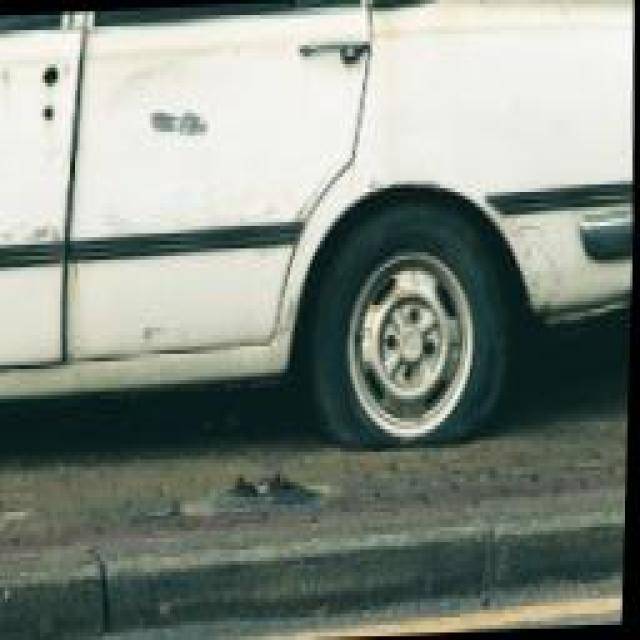Bumper: (505, 203, 615, 328)
Door: (95, 45, 285, 248), (0, 41, 70, 260)
